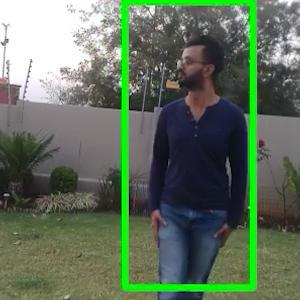follow: (152, 27, 244, 281)
